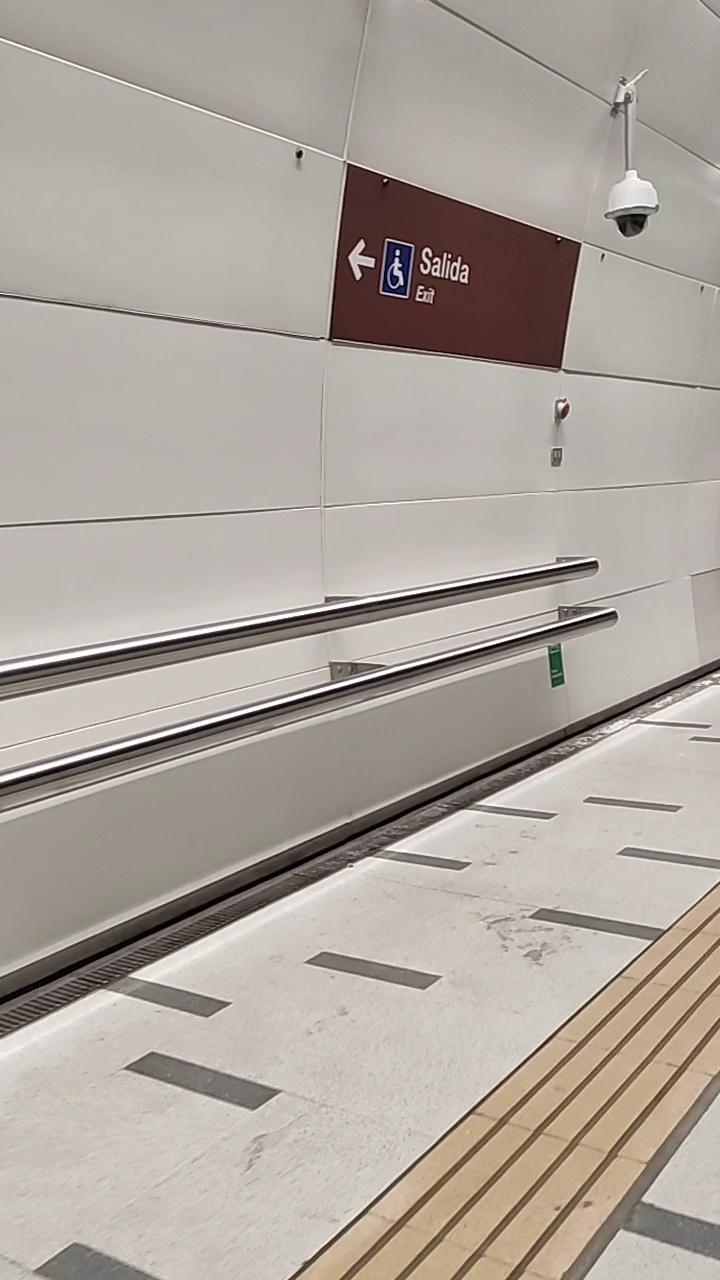handicapped symbol: (379, 235, 424, 302)
left arrow: (340, 235, 379, 292)
